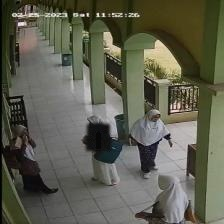Cadar_Niqab: (86, 110, 110, 150)
